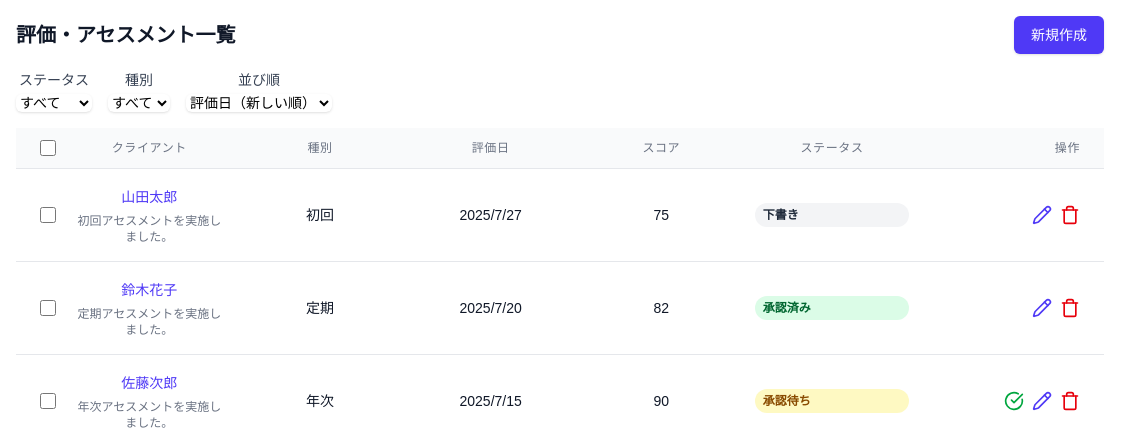
Test case: AssessmentList › フィルタリング › アセスメント種別でフィルタリングできる
Select "定期" in the dropdown labelled "種別": (139, 103) [108,94,170,112]
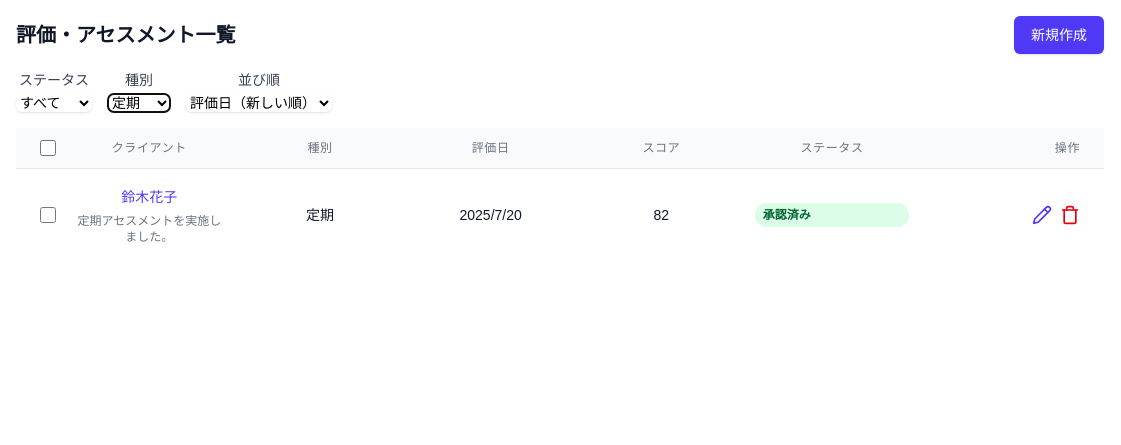
Expected: the text "定期アセスメントを実施しました。" is shown, [72,213,227,245]
Result: the text "初回アセスメントを実施しました。" is gone
Result: the text "年次アセスメントを実施しました。" is gone
